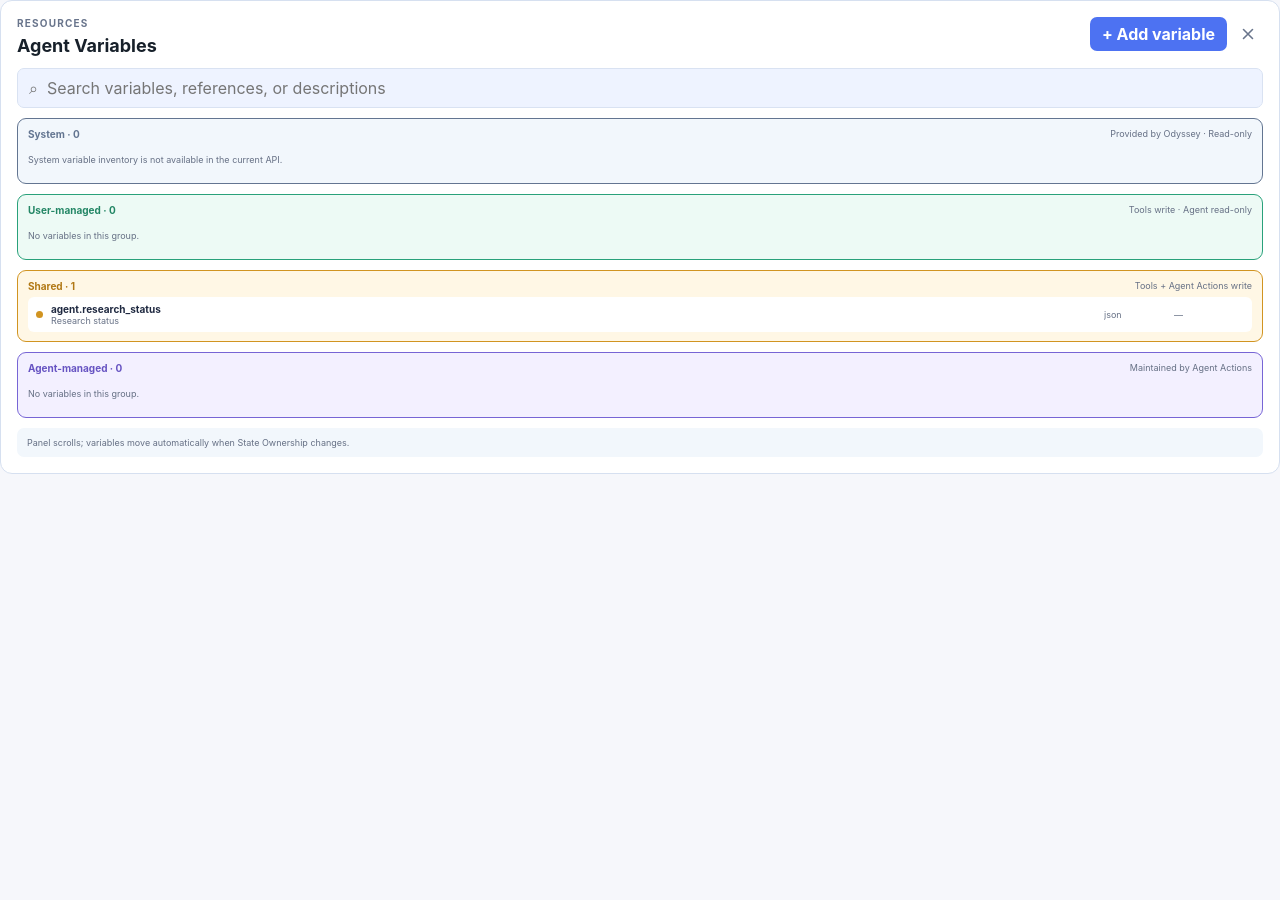
Test: AgentVariablesPanel › uses the header back control as the single way to cancel editing
This screenshot has width=1280, height=900.
Click the button "agent.research_status Research status json —".
click(106, 308)  # box 28,296 -> 1252,332
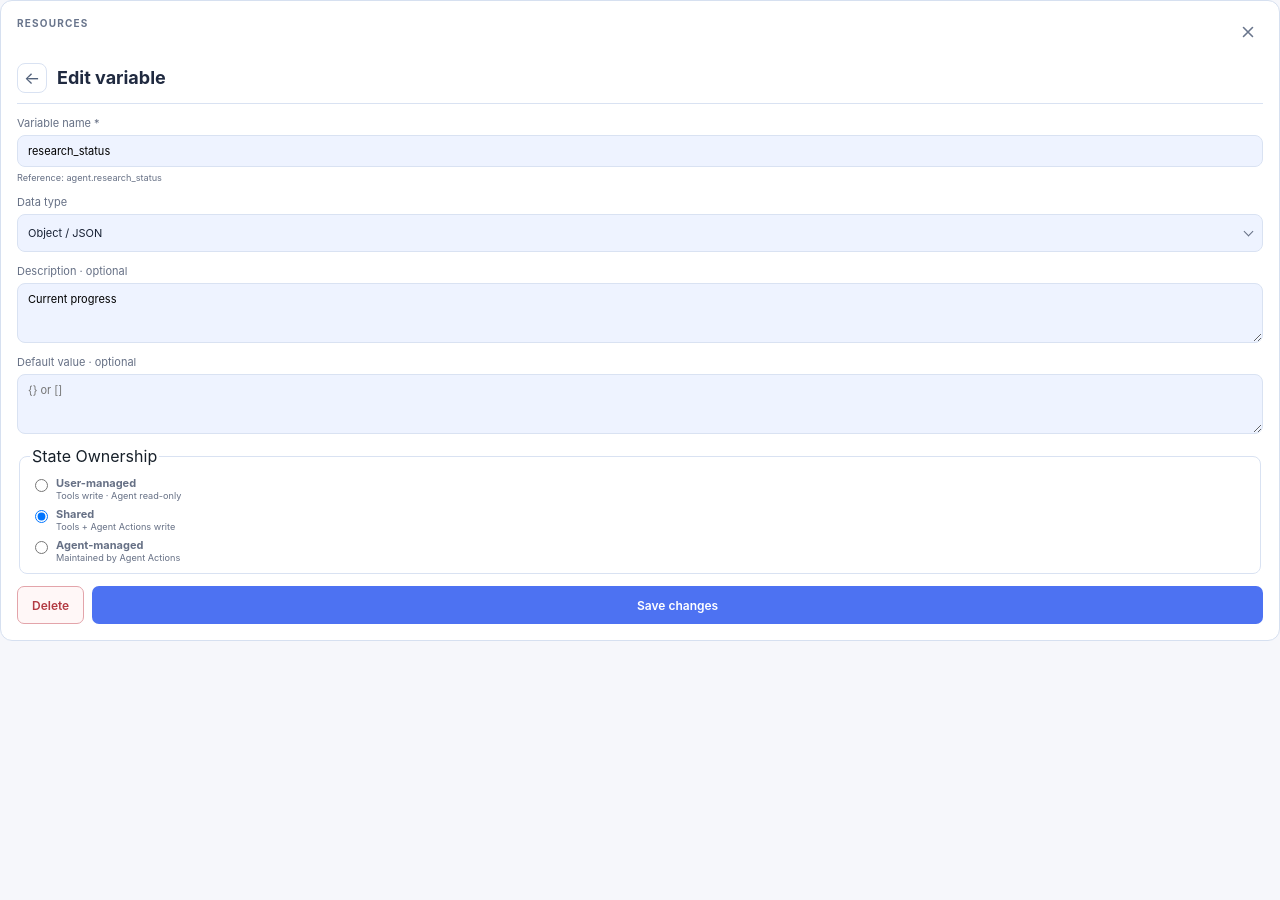
Click the button named "Back to Agent Variables".
click(32, 78)  # box 17,63 -> 47,93
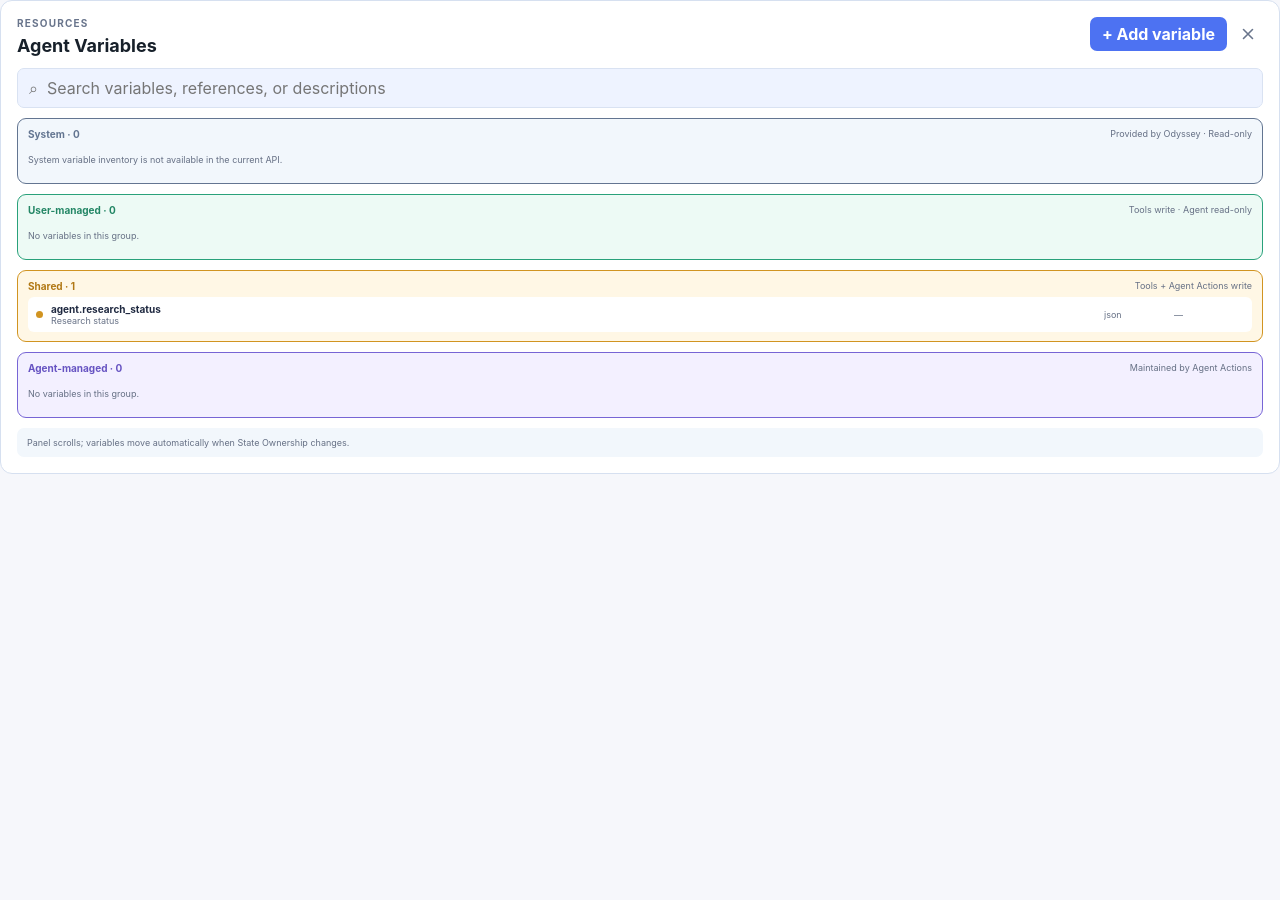
expect the text "Agent Variables" is shown: met, box 17,35 -> 157,58
